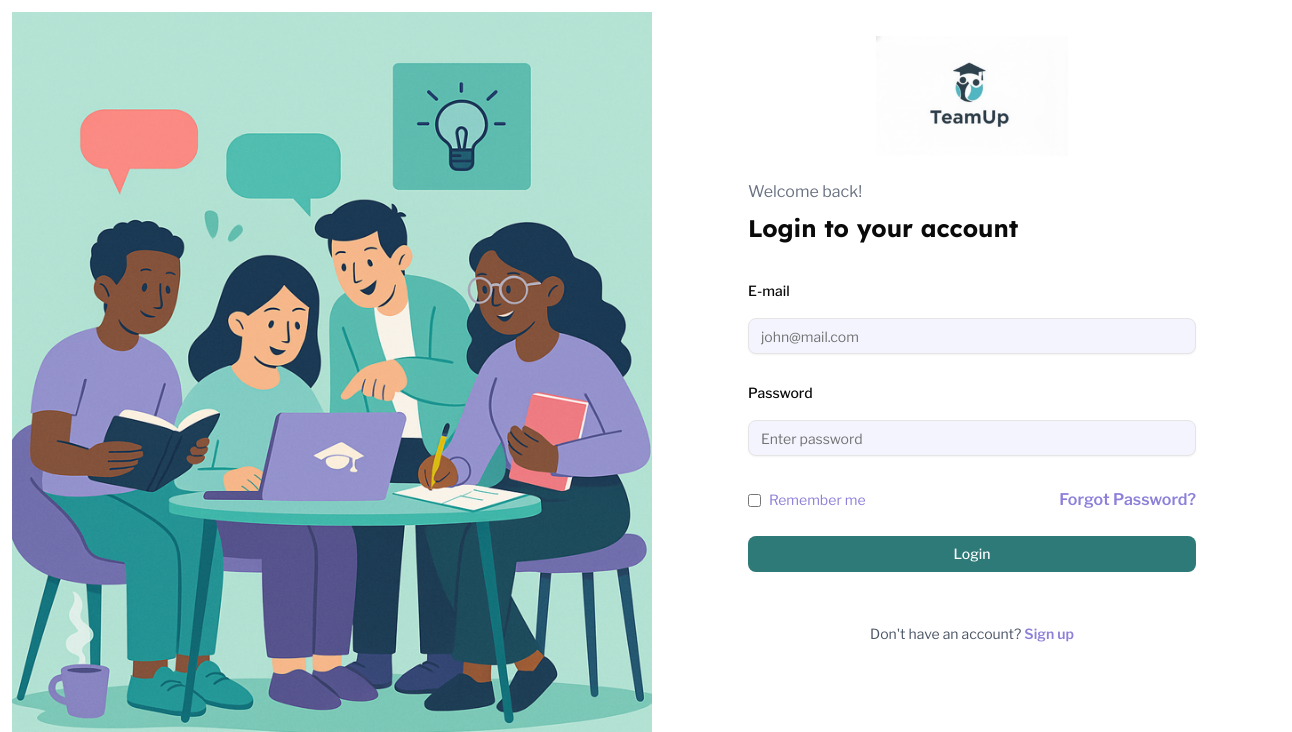
it: Login Page E2E Tests › Failed Login Flow - Error Handling › should display error message for invalid credentials
This screenshot has width=1292, height=732.
# Fill in credentials (even if invalid)
Type "wrong@mail.com" into the field with placeholder "john@mail.com" at (972, 336), box [748,318,1196,354]
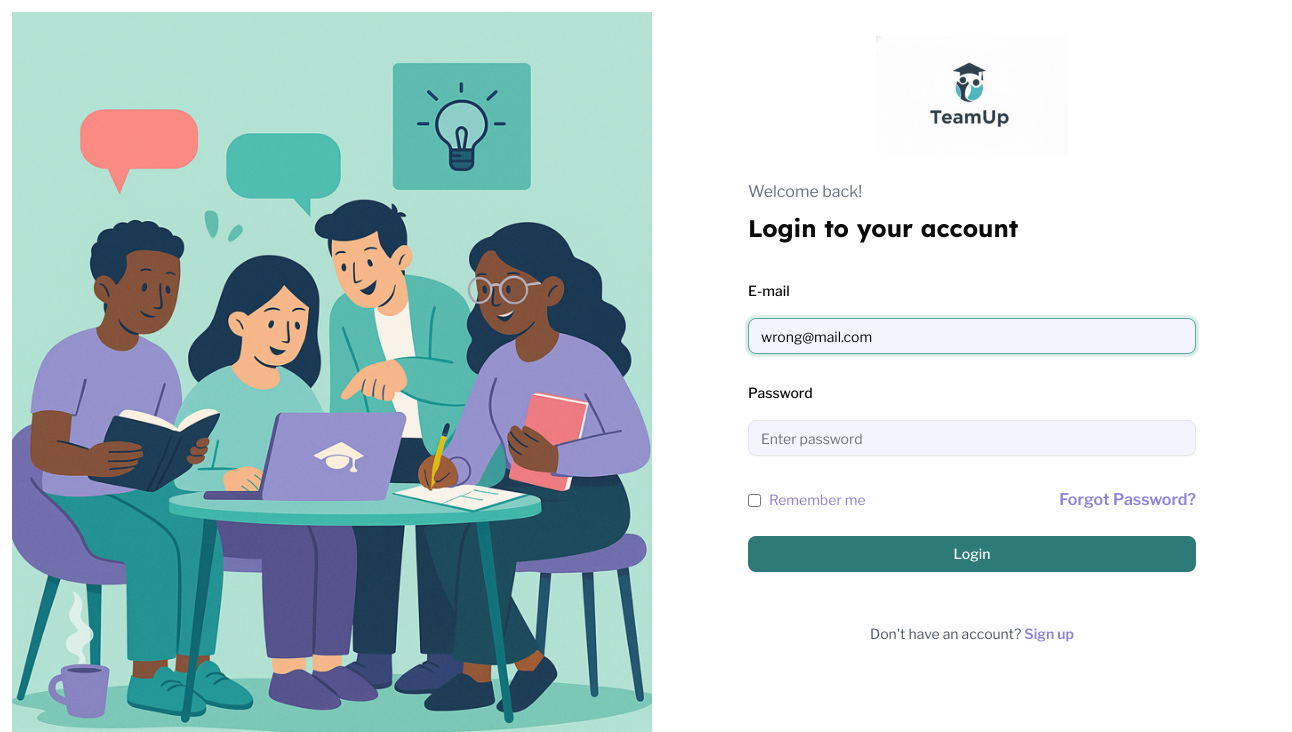
Type "wrongpassword" into the password field with placeholder "Enter password" at (972, 438), box [748,420,1196,456]
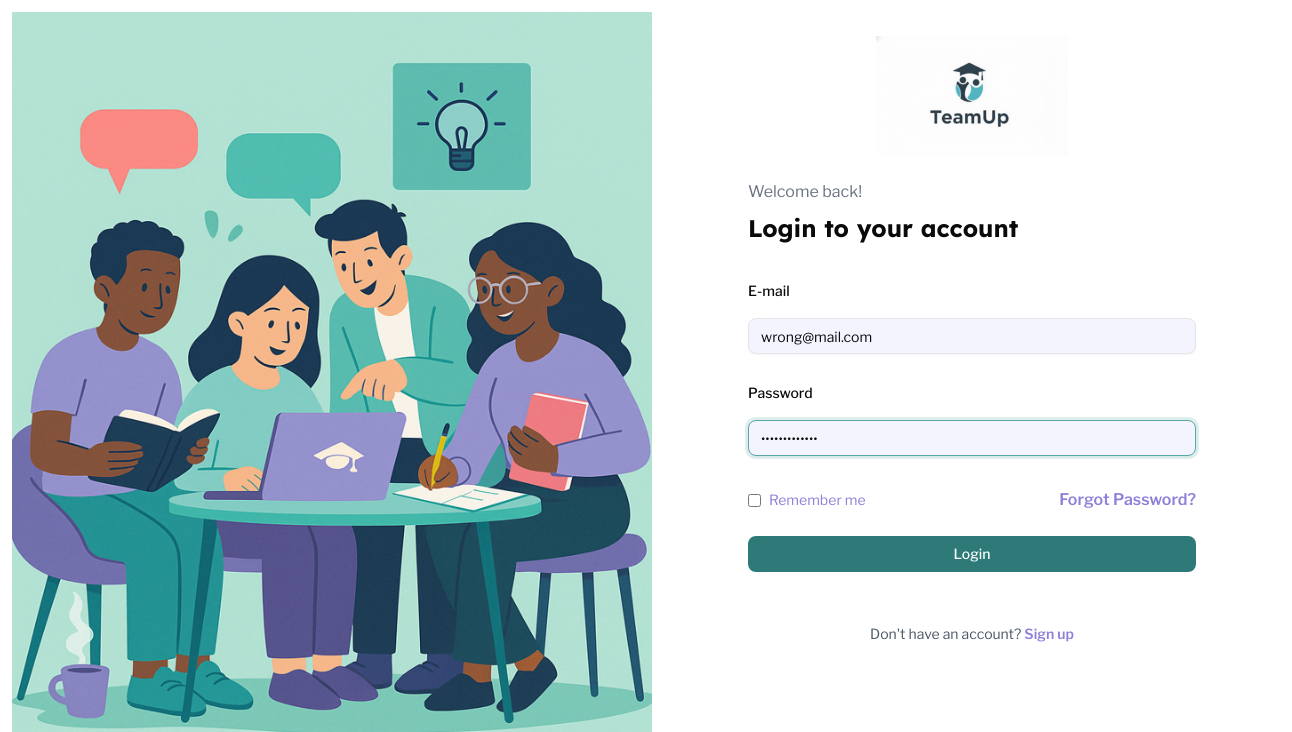
# Submit the form
Click the button "Login" at (972, 554), box [748,536,1196,572]
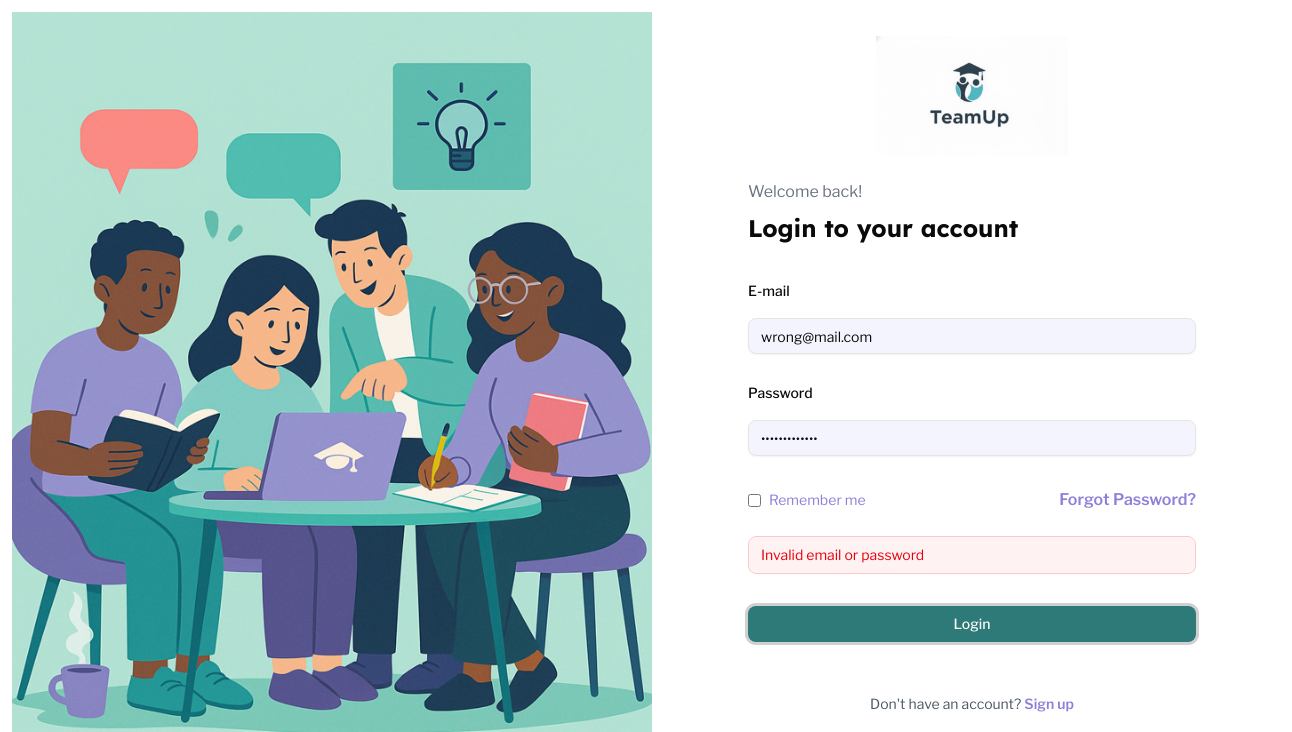
Now the text "Invalid email or password" is shown, box [748,536,1196,574]
